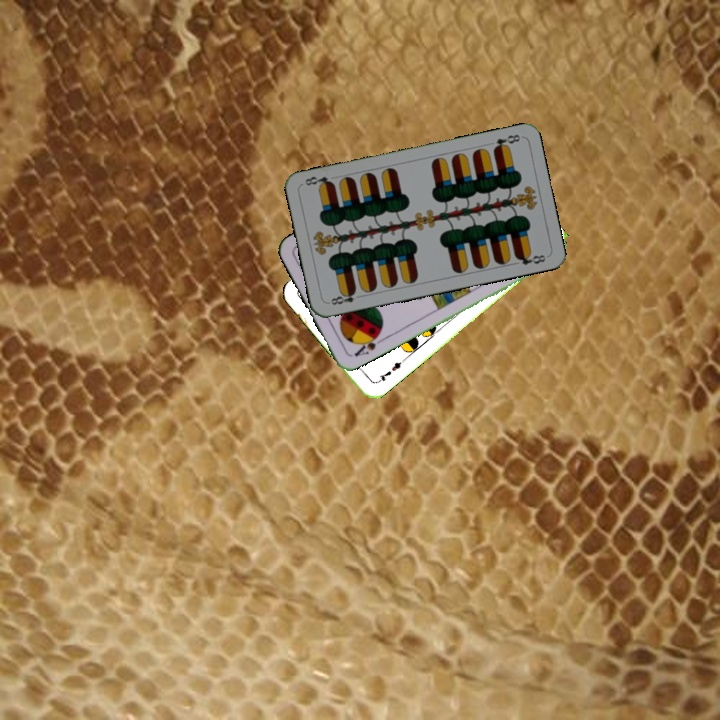E7: (372, 356, 406, 386)
E8: (325, 286, 365, 307), (489, 130, 523, 153)
SA: (350, 329, 386, 359)
